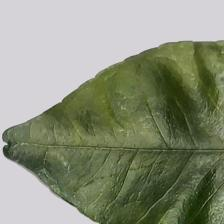healthy: (27, 43, 194, 208)
